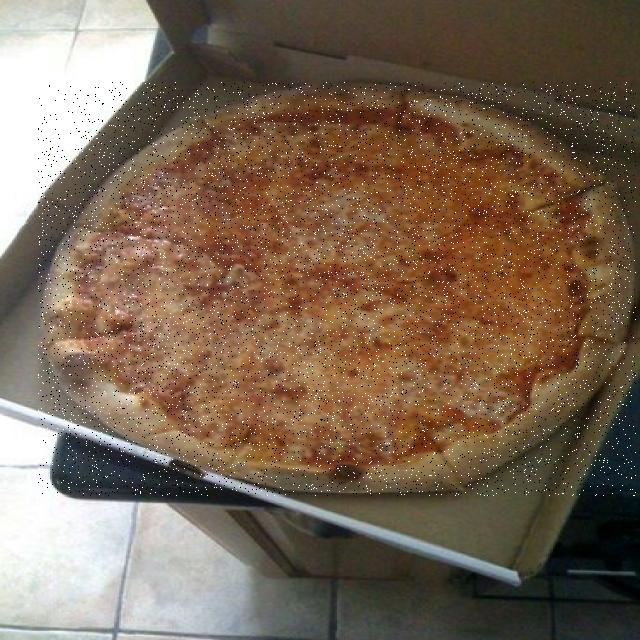Pizza: (39, 83, 636, 496)
